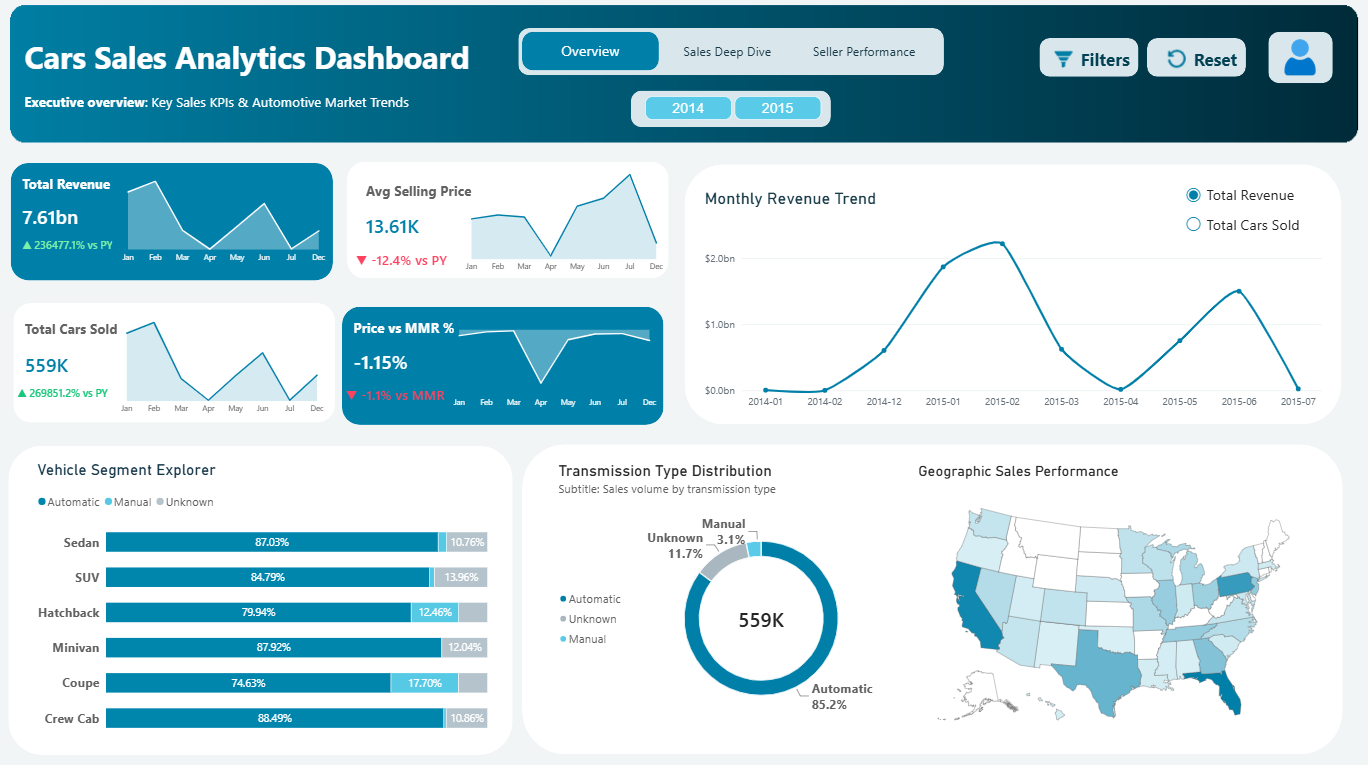

The dashboard page shown, as its layout file describes it:
{"tool":"powerbi","page":{"name":"Overview","canvas":[1920,1080],"ordinal":0},"visuals":[{"type":"image","box":[0,0,1920,1081.9],"z":0},{"type":"shape","box":[728,42,594,66],"z":0,"group":"g7"},{"type":"shape","box":[18.8,229.4,449.5,163.9],"z":0,"group":"g2"},{"type":"shape","box":[488.6,229.5,449,163],"z":0,"group":"g1"},{"type":"shape","box":[22.9,425.8,449,167],"z":0,"group":"g4"},{"type":"shape","box":[482.1,429.9,448.7,164.9],"z":0,"group":"g3"},{"type":"textbox","box":[38.4,38.4,986.5,137.5],"z":1000},{"type":"pageNavigator","box":[734,48,574,54],"z":1000,"group":"g7"},{"type":"shape","box":[884,128.9,279.4,51.4],"z":1000,"group":"g8"},{"type":"cardVisual","fields":{"Data":["AllMeasure.Total Sales Revenue"]},"box":[18.8,217,155.5,135.2],"z":1000,"group":"g2"},{"type":"cardVisual","fields":{"Data":["AllMeasure.Average Selling Price"]},"box":[498.3,228.4,242.1,135.7],"z":1000,"group":"g1"},{"type":"shape","box":[960,231.7,916.2,363.1],"z":1000,"group":"g5"},{"type":"cardVisual","fields":{"Data":["AllMeasure.Price vs MMR %"]},"box":[481.9,418.2,198.3,135.7],"z":1000,"group":"g3"},{"type":"cardVisual","fields":{"Data":["AllMeasure.Total Cars Sold"]},"box":[22.9,421.6,177.4,135.7],"z":1000,"group":"g4"},{"type":"areaChart","fields":{"Category":["DimDate.Month Name"],"Y":["AllMeasure.Total Revenue"]},"box":[150.5,198.3,328.3,190.9],"z":2000,"group":"g2"},{"type":"group","id":"g1","title":"Group 2","box":[484.4,206.5,465.2,203],"z":2000},{"type":"areaChart","fields":{"Category":["DimDate.Month Name"],"Y":["AllMeasure.Average Selling Price"]},"box":[630.3,206.5,319.3,196.2],"z":2000,"group":"g1"},{"type":"areaChart","fields":{"Category":["DimDate.Month Name"],"Y":["AllMeasure.Total Cars Sold"]},"box":[150.2,404.9,327.7,196.2],"z":2000,"group":"g4"},{"type":"areaChart","fields":{"Category":["DimDate.Month Name"],"Y":["AllMeasure.Price vs MMR %"]},"box":[613.6,439.1,327.7,152.3],"z":2000,"group":"g3"},{"type":"group","id":"g2","title":"Group 1","box":[18.8,198.3,460,195],"z":3000},{"type":"cardVisual","fields":{"Data":["AllMeasure.Revenue YoY Label"]},"box":[18.8,302,178.2,86.7],"z":3000,"group":"g2"},{"type":"cardVisual","fields":{"Data":["AllMeasure.Avg Price YoY Label"]},"box":[484.4,322.3,177.9,87.2],"z":3000,"group":"g1"},{"type":"cardVisual","fields":{"Data":["AllMeasure.Cars Sold YoY Label"]},"box":[12.5,507.2,177.9,87.2],"z":3000,"group":"g4"},{"type":"cardVisual","fields":{"Data":["AllMeasure.MMR Status Label"]},"box":[471.3,509.6,177.9,87.2],"z":3000,"group":"g3"},{"type":"group","id":"g3","title":"Group 4","box":[471.3,418.2,470,178.6],"z":4000},{"type":"group","id":"g4","title":"Group 3","box":[12.5,404.9,465.4,196.2],"z":5000},{"type":"ChicletSlicer1448559807354","fields":{"Category":["DimDate.Year"]},"box":[886.2,120,281.6,102.8],"z":6000,"group":"g8"},{"type":"group","id":"g5","title":"Group 5","box":[960,231.7,916.2,363.1],"z":6000},{"type":"shape","box":[731.9,623.2,1145.4,432.9],"z":7000},{"type":"shapeMap","title":"Geographic Sales Performance","fields":{"Category":["FactSales.US State"],"Value":["AllMeasure.Total Revenue"]},"box":[1269.3,632.4,576.6,415.4],"z":8000},{"type":"donutChart","title":"Transmission Type Distribution","fields":{"Category":["FactSales.Transmission Category"],"Y":["AllMeasure.Total Cars Sold"]},"box":[767.5,632.4,501.8,403.2],"z":9000},{"type":"group","id":"g6","title":"Group 6","box":[1756.8,33.5,122.9,93.9],"z":10000},{"type":"shape","box":[16,624,704,432],"z":11000},{"type":"lineChart","fields":{"Category":["DimDate.Year Month"],"Y":["AllMeasure.Total Revenue"]},"box":[972.5,251.2,893.2,342.3],"z":12000,"group":"g5"},{"type":"hundredPercentStackedBarChart","title":"Vehicle Segment Explorer","fields":{"Category":["FactSales.body"],"Series":["FactSales.Transmission Category"],"Y":["AllMeasure.Total Cars Sold"]},"box":[40,632,660,424],"z":12000},{"type":"slicer","fields":{"Values":["Sales Metric Selector.Sales Metric Selector"]},"box":[1652.9,252.6,192,102.3],"z":12500,"group":"g5"},{"type":"group","id":"g7","title":"Group 1","box":[728,42,594,66],"z":13000},{"type":"group","id":"g8","title":"Group 8","box":[884,120,284,102],"z":14000},{"type":"shape","box":[1774.3,47.1,90,71.8],"z":15502,"group":"g6"},{"type":"image","box":[1774.3,58.7,88.2,50.5],"z":16002,"group":"g6"},{"type":"cardVisual","fields":{"Data":["AllMeasure.Author Tooltip Trigger"]},"box":[1756.8,33.5,122.3,95.1],"z":16502,"group":"g6"},{"type":"actionButton","title":"Reset","box":[1604,56,138,54],"z":18000},{"type":"actionButton","title":"Filter white","box":[1454,56,138,54],"z":18500}]}

Visuals, with their boxes in screenshot pixels (x1, y1, x2, y2), scaled from the page's 1920x1080 canvas onto the 1368x765 screenshot:
image: detection(0, 0, 1367, 764)
shape: detection(519, 30, 942, 76)
shape: detection(13, 162, 334, 279)
shape: detection(348, 163, 668, 278)
shape: detection(16, 302, 336, 420)
shape: detection(343, 305, 663, 421)
textbox: detection(27, 27, 730, 125)
pageNavigator: detection(523, 34, 932, 72)
shape: detection(630, 91, 829, 128)
cardVisual - AllMeasure.Total Sales Revenue: detection(13, 154, 124, 249)
cardVisual - AllMeasure.Average Selling Price: detection(355, 162, 528, 258)
shape: detection(684, 164, 1337, 421)
cardVisual - AllMeasure.Price vs MMR %: detection(343, 296, 485, 392)
cardVisual - AllMeasure.Total Cars Sold: detection(16, 299, 143, 395)
areaChart - DimDate.Month Name x AllMeasure.Total Revenue: detection(107, 140, 341, 276)
"Group 2" group: detection(345, 146, 677, 290)
areaChart - DimDate.Month Name x AllMeasure.Average Selling Price: detection(449, 146, 677, 285)
areaChart - DimDate.Month Name x AllMeasure.Total Cars Sold: detection(107, 287, 341, 426)
areaChart - DimDate.Month Name x AllMeasure.Price vs MMR %: detection(437, 311, 671, 419)
"Group 1" group: detection(13, 140, 341, 279)
cardVisual - AllMeasure.Revenue YoY Label: detection(13, 214, 140, 275)
cardVisual - AllMeasure.Avg Price YoY Label: detection(345, 228, 472, 290)
cardVisual - AllMeasure.Cars Sold YoY Label: detection(9, 359, 136, 421)
cardVisual - AllMeasure.MMR Status Label: detection(336, 361, 463, 423)
"Group 4" group: detection(336, 296, 671, 423)
"Group 3" group: detection(9, 287, 341, 426)
ChicletSlicer1448559807354 - DimDate.Year: detection(631, 85, 832, 158)
"Group 5" group: detection(684, 164, 1337, 421)
shape: detection(521, 441, 1338, 748)
"Geographic Sales Performance" shapeMap: detection(904, 448, 1315, 742)
"Transmission Type Distribution" donutChart: detection(547, 448, 904, 734)
"Group 6" group: detection(1252, 24, 1339, 90)
shape: detection(11, 442, 513, 748)
lineChart - DimDate.Year Month x AllMeasure.Total Revenue: detection(693, 178, 1329, 420)
"Vehicle Segment Explorer" hundredPercentStackedBarChart: detection(28, 448, 499, 748)
slicer - Sales Metric Selector.Sales Metric Selector: detection(1178, 179, 1314, 251)
"Group 1" group: detection(519, 30, 942, 76)
"Group 8" group: detection(630, 85, 832, 157)
shape: detection(1264, 33, 1328, 84)
image: detection(1264, 42, 1327, 77)
cardVisual - AllMeasure.Author Tooltip Trigger: detection(1252, 24, 1339, 91)
"Reset" actionButton: detection(1143, 40, 1241, 78)
"Filter white" actionButton: detection(1036, 40, 1134, 78)
